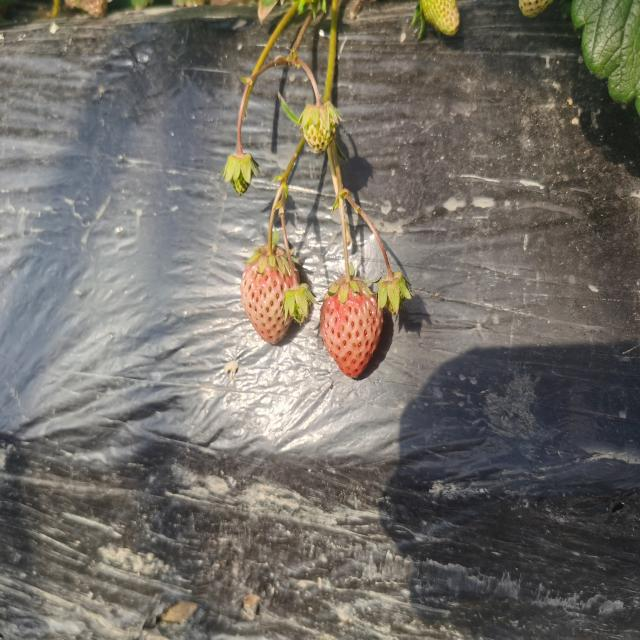stem: (268, 197, 279, 255), (342, 230, 352, 284)
strawberry: (320, 276, 383, 378), (240, 248, 292, 345)
